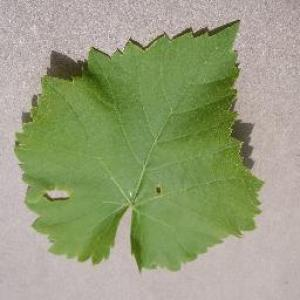Folha: (13, 17, 264, 272)
